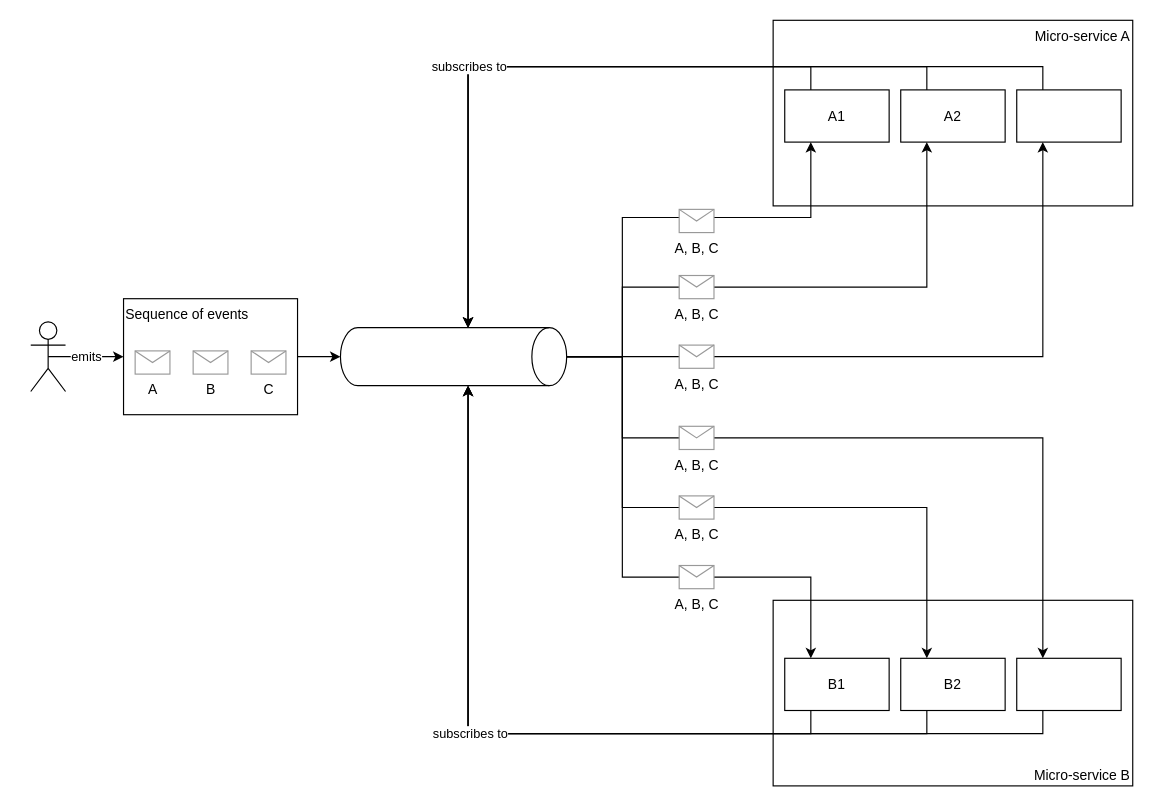
The diagram is 1153 pixels wide and 806 high, and some of its shapes have lost their labels. Each missing label, with the box of its shape:
A3: (1016, 89, 1121, 142)
B3: (1016, 657, 1121, 710)
BroadcastingStream: (339, 327, 567, 386)
Producer: (30, 321, 66, 392)
